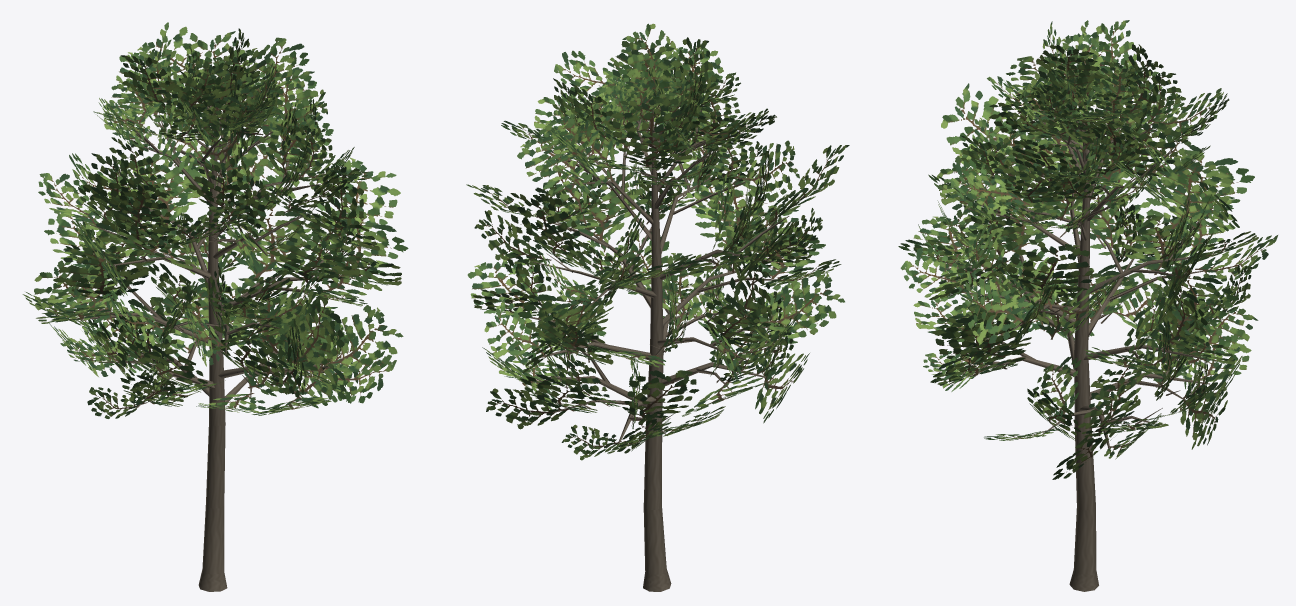
Rendered from pin-oak.glb.
3 renders of one model, left to right at view 1: azimuth 30°, elevation 25°; view 2: azimuth 150°, elevation 25°; view 3: azimuth 270°, elevation 25°, orthographic.
Parts seen in each view (by area): view 1: Surface; view 2: Surface; view 3: Surface.
Boxes of the visible parts, left/top/right/bottom form: Surface: left=22, top=22, right=408, bottom=591; Surface: left=466, top=23, right=849, bottom=591; Surface: left=898, top=20, right=1277, bottom=591.
Size of the model in its own units: 5.87 by 8.01 by 5.19.
Materials: 1 (1 with a texture image).
